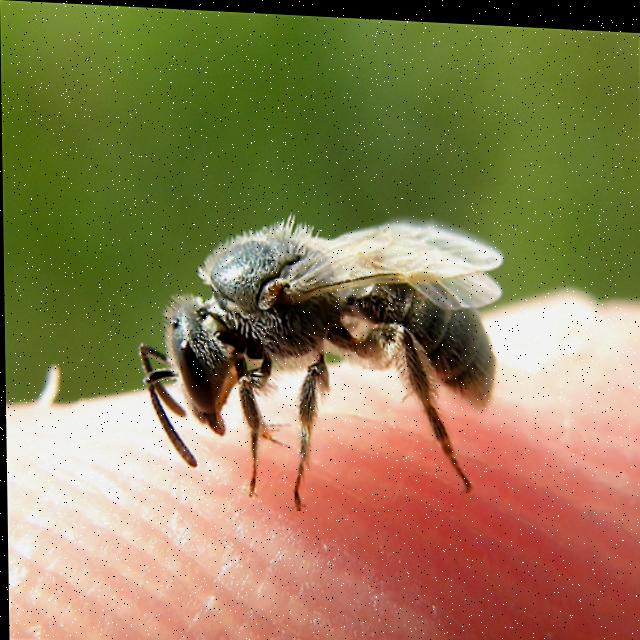Lasioglossum: (132, 172, 522, 522)
